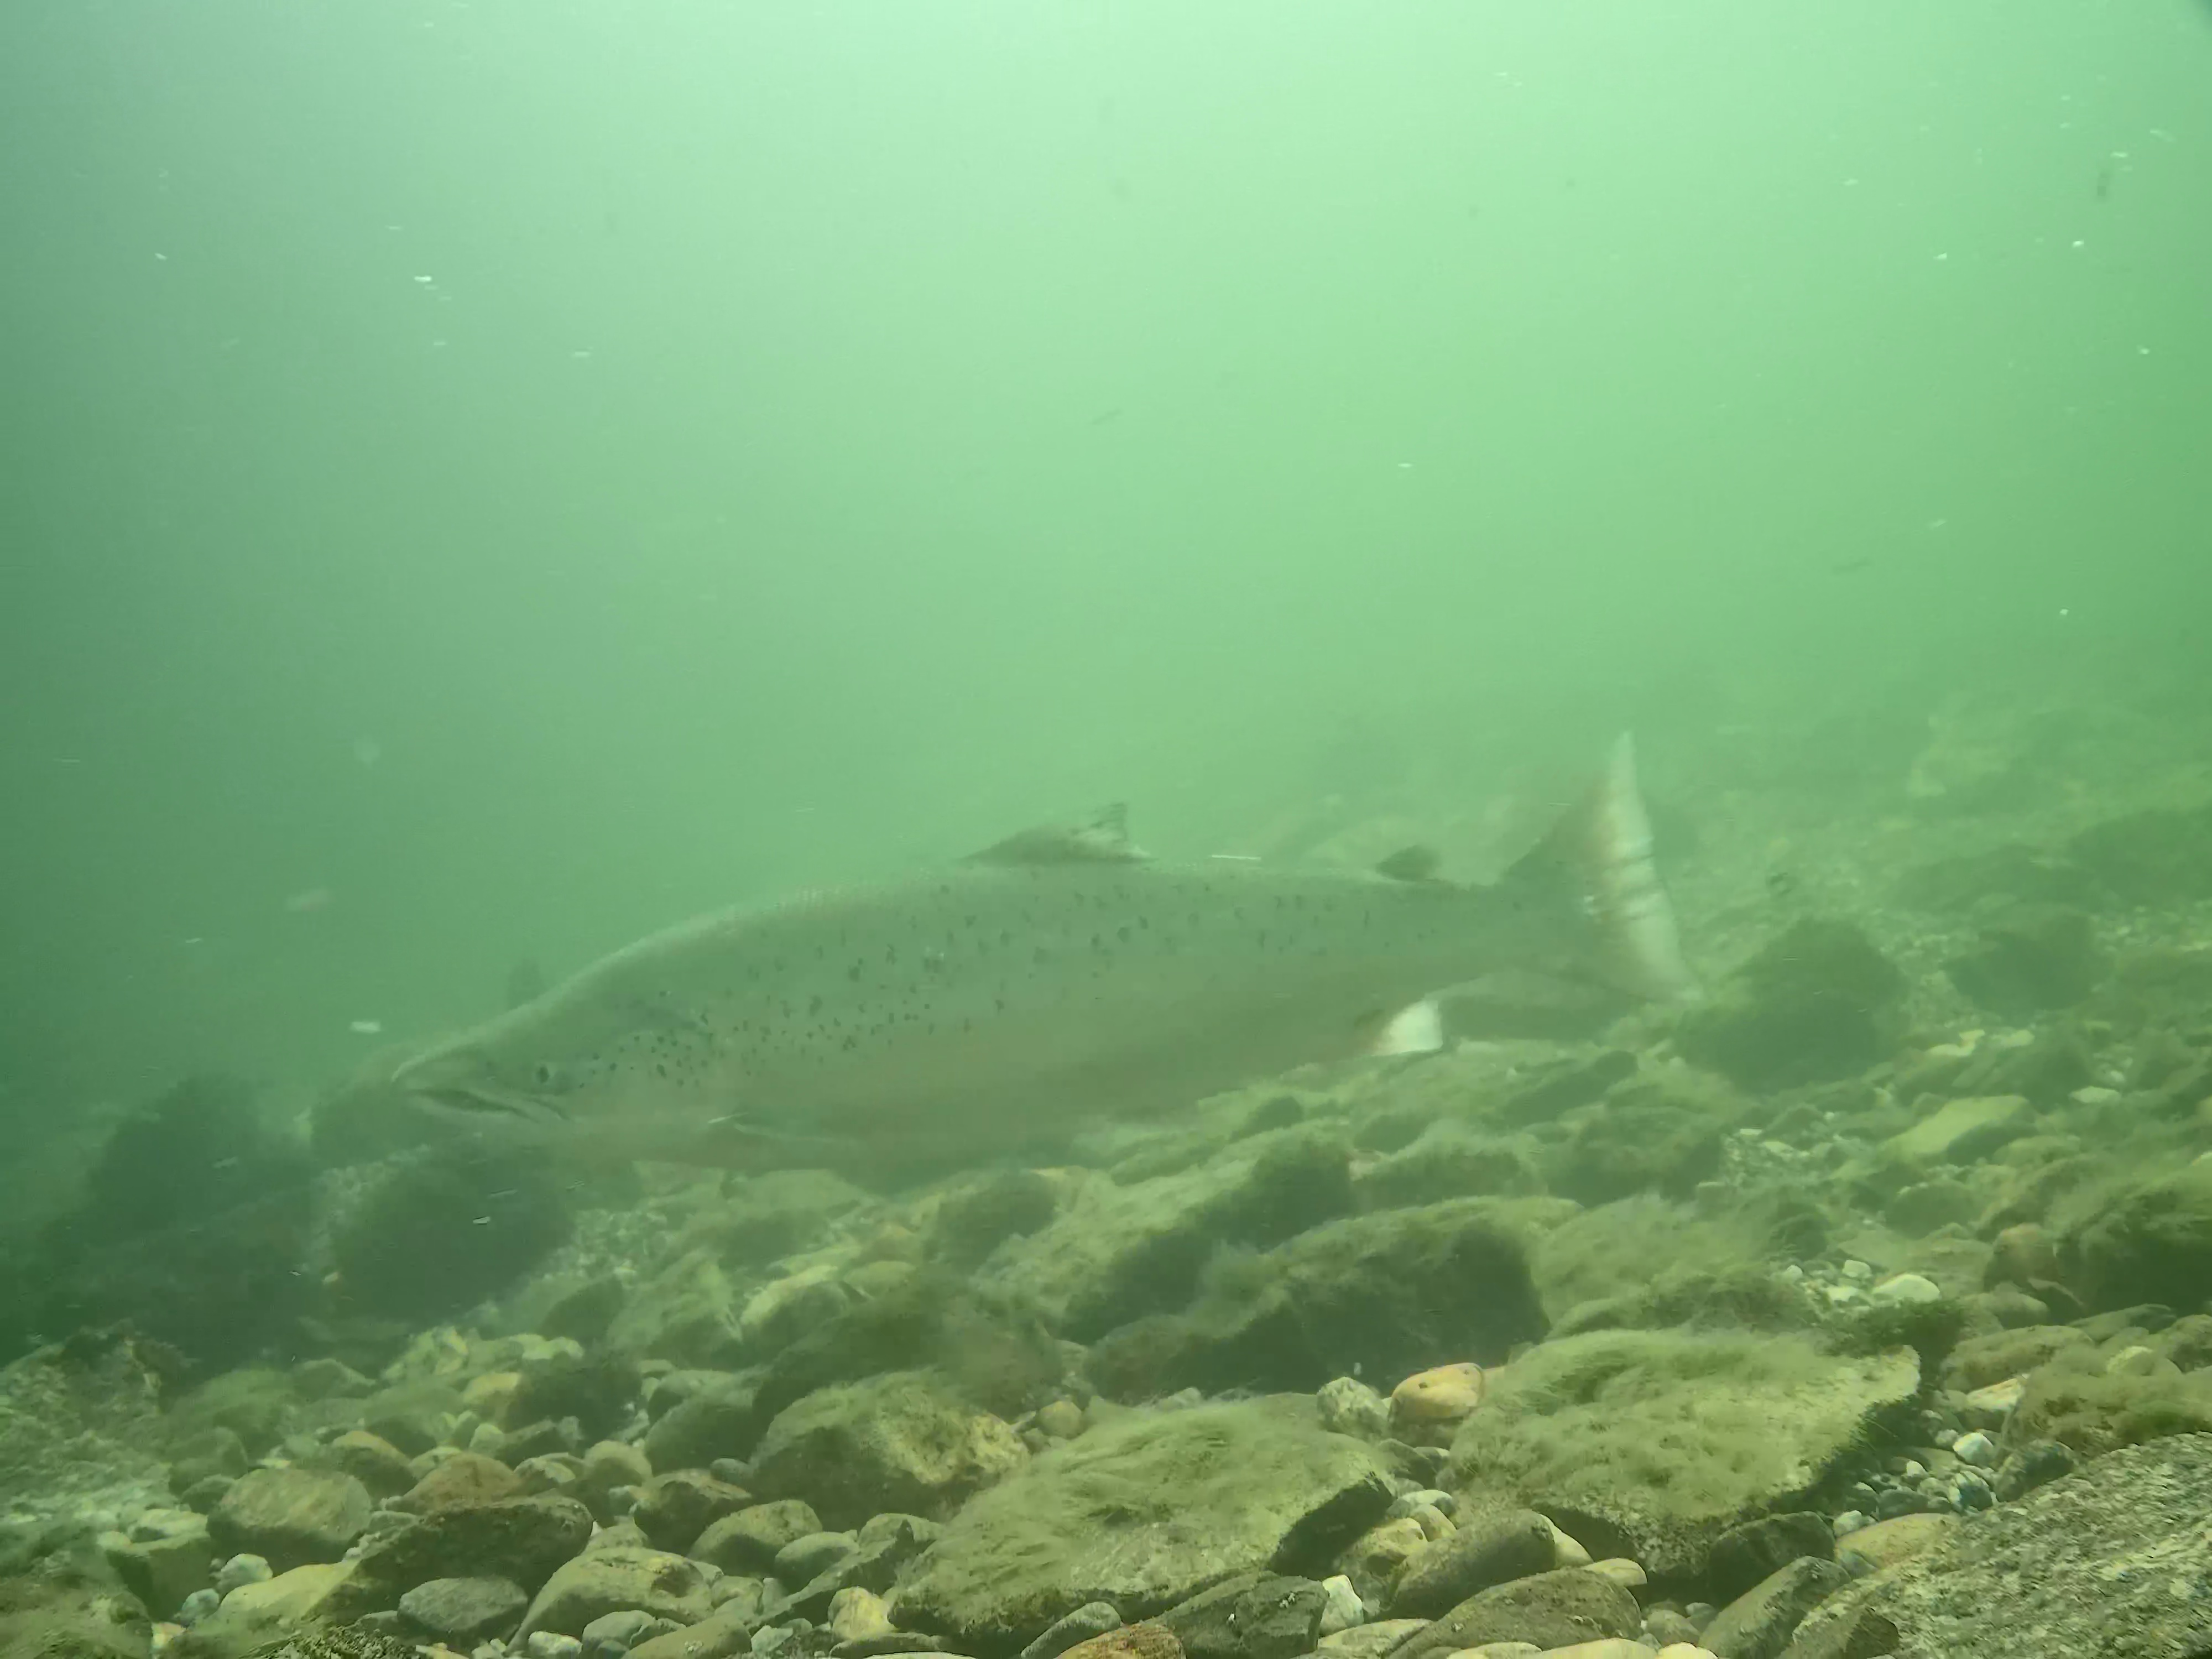salmon: (390, 730, 1714, 1185)
